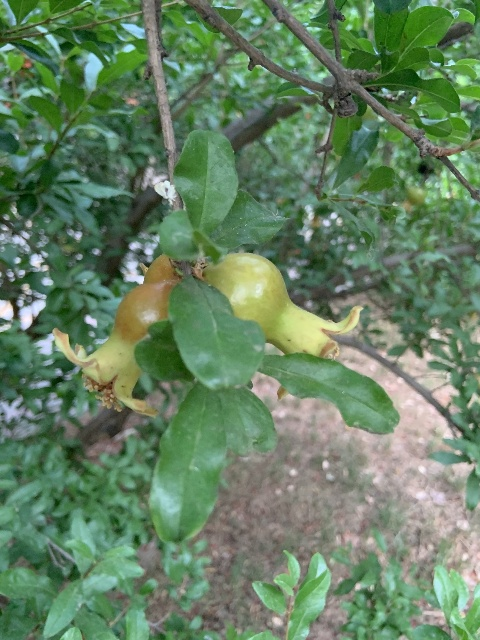early-fruit: (52, 281, 175, 416)
mid-growth: (201, 252, 361, 367), (402, 184, 426, 213)
